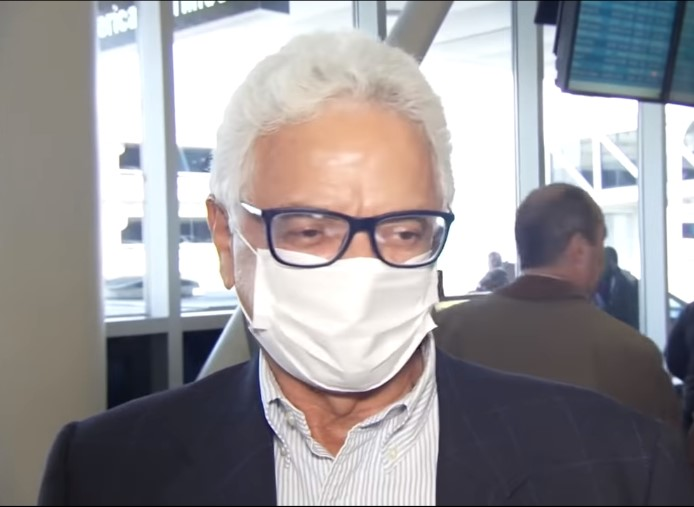face_with_mask: (208, 49, 446, 395)
